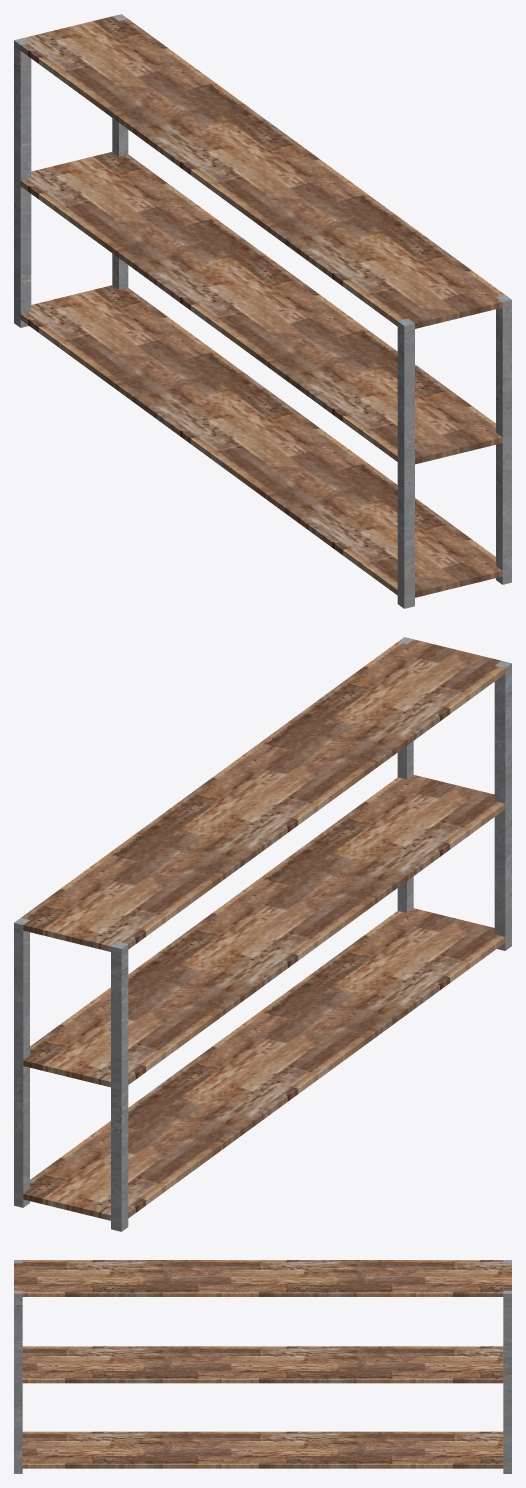
Rendered from EstantesBodega.fbx.
3 renders of one model, top to bottom at view 1: azimuth 30°, elevation 25°; view 2: azimuth 150°, elevation 25°; view 3: azimuth 270°, elevation 25°, orthographic. The views are drawn at different scales.
Parts seen in each view (by area): view 1: Cube; view 2: Cube; view 3: Cube.
Part boxes in pixels (bbox=[...]): Cube: bbox=[14, 14, 511, 608]; Cube: bbox=[14, 637, 511, 1231]; Cube: bbox=[14, 1260, 511, 1473].
Bounding box in the file's own units: 347 × 872 × 2181.
2 materials, 2 textured.
